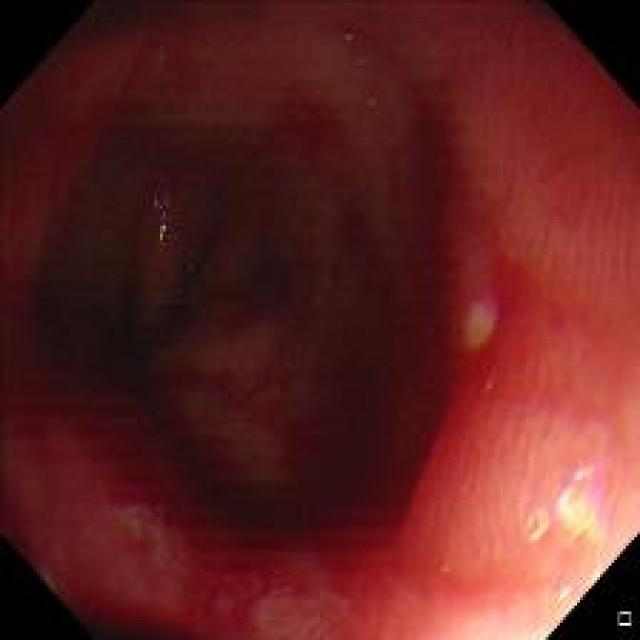color misalignment: (572, 451, 615, 529), (175, 241, 205, 304), (145, 186, 175, 245), (470, 295, 500, 328), (340, 26, 359, 52), (360, 94, 378, 110)
contrast: (35, 45, 440, 535)
